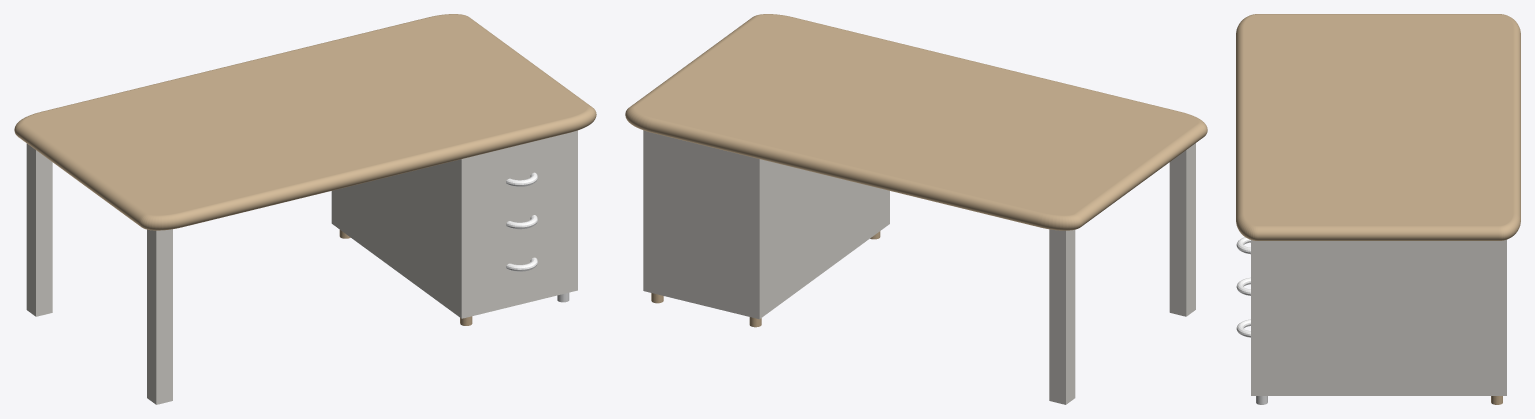
File: tableWood2 (1).fbx
The picture shows the model from 3 angles, left to right: view 1: azimuth 30°, elevation 25°; view 2: azimuth 150°, elevation 25°; view 3: azimuth 270°, elevation 25°; orthographic projection.
Parts seen in each view (by area): view 1: Cube.002, 큐브.004, 큐브.006, 큐브.005; view 2: Cube.002, 큐브.004, 큐브.005, 큐브.006; view 3: Cube.002, 큐브.004.
Part boxes in pixels (x1,y1,x2,y2): Cube.002: (14,14,596,230); 큐브.004: (331,130,577,318); 큐브.006: (147,229,172,404); 큐브.005: (26,143,52,316); Cube.002: (625,14,1207,230); 큐브.004: (643,130,889,319); 큐브.005: (1049,229,1075,404); 큐브.006: (1169,143,1195,316); Cube.002: (1236,14,1520,240); 큐브.004: (1251,239,1506,395).
Size of the model in its own units: 171 by 68.06 by 94.02.
